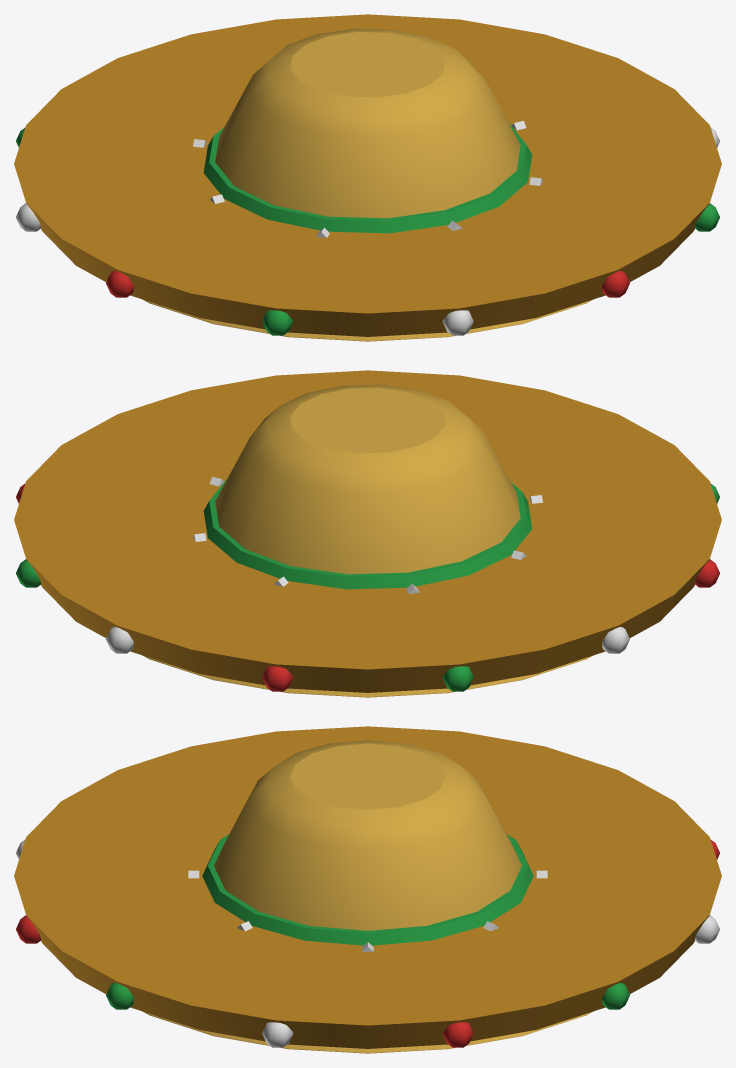
File: hat-sombrero.glb
The picture shows the model from 3 angles, top to bottom: view 1: azimuth 30°, elevation 25°; view 2: azimuth 150°, elevation 25°; view 3: azimuth 270°, elevation 25°; orthographic projection.
Parts seen in each view (by area): view 1: Hat; view 2: Hat; view 3: Hat.
Boxes of the visible parts, <box> form: Hat: <box>14,14,721,341</box>; Hat: <box>14,370,721,697</box>; Hat: <box>14,726,721,1053</box>.
Bounding box in the file's own units: 1.26 × 0.2875 × 1.26.
